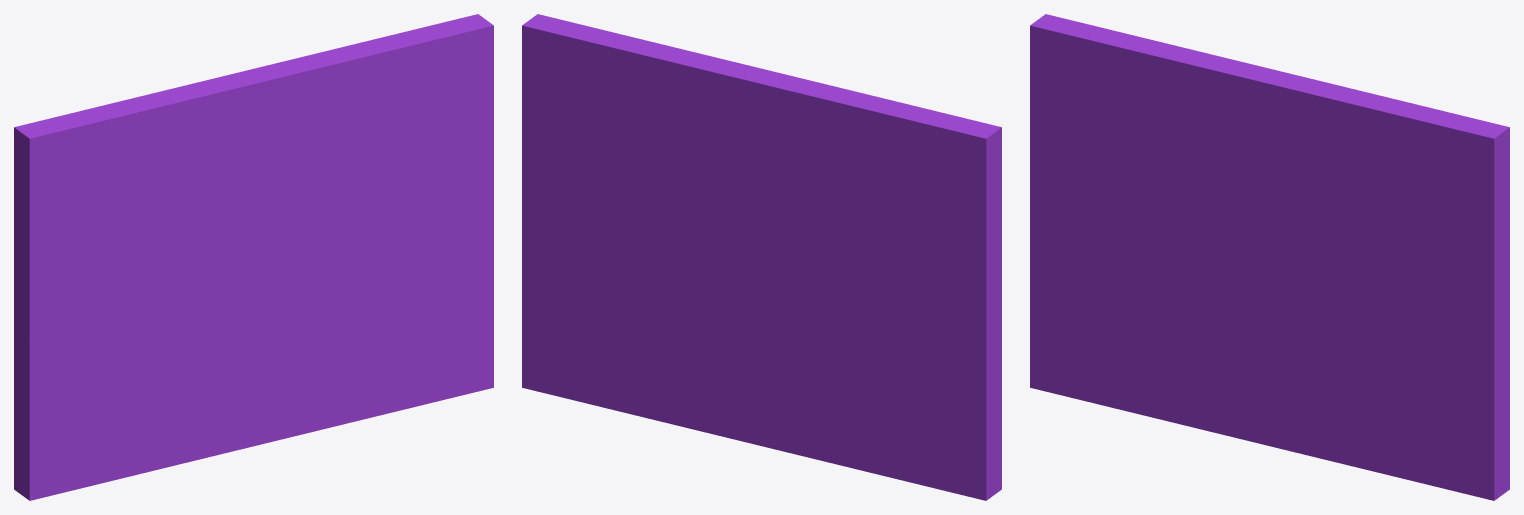
The model's file is Barrier_20_chunks.fbx.
3 renders of one model, left to right at view 1: azimuth 30°, elevation 25°; view 2: azimuth 150°, elevation 25°; view 3: azimuth 330°, elevation 25°, orthographic.
Parts seen in each view (by area): view 1: Barrier_20_2, Barrier_20_0, Barrier_20_1, Barrier_20_3; view 2: Barrier_20_2, Barrier_20_0, Barrier_20_3, Barrier_20_1; view 3: Barrier_20_2, Barrier_20_0, Barrier_20_1, Barrier_20_3.
Part boxes in pixels (x1=…): Barrier_20_2: x1=269, y1=14, x2=493, y2=407; Barrier_20_0: x1=14, y1=52, x2=342, y2=345; Barrier_20_1: x1=131, y1=253, x2=411, y2=476; Barrier_20_3: x1=14, y1=294, x2=194, y2=500; Barrier_20_2: x1=522, y1=14, x2=752, y2=413; Barrier_20_0: x1=680, y1=51, x2=1001, y2=333; Barrier_20_3: x1=718, y1=252, x2=1001, y2=500; Barrier_20_1: x1=631, y1=320, x2=762, y2=446; Barrier_20_2: x1=1269, y1=88, x2=1509, y2=500; Barrier_20_0: x1=1030, y1=14, x2=1350, y2=261; Barrier_20_1: x1=1131, y1=256, x2=1411, y2=480; Barrier_20_3: x1=1030, y1=232, x2=1194, y2=412.
Size of the model in its own units: 381 by 284 by 22.39.
